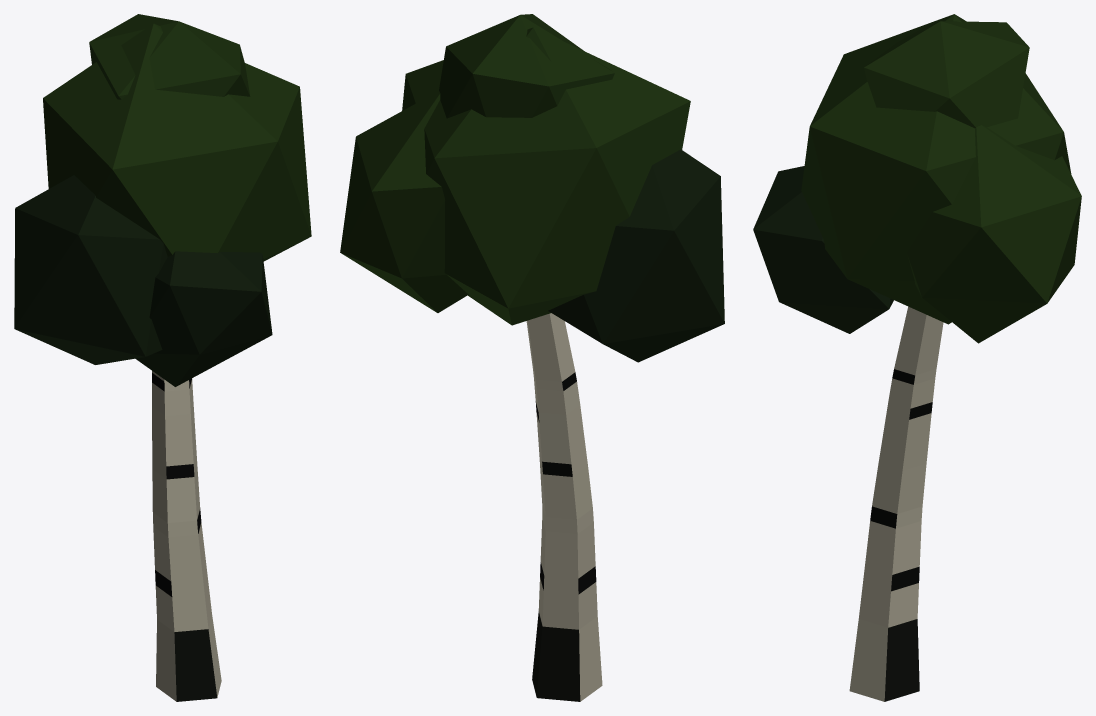
File: SM_Tree_Birch_01.fbx
3 renders of one model, left to right at view 1: azimuth 30°, elevation 25°; view 2: azimuth 150°, elevation 25°; view 3: azimuth 270°, elevation 25°, orthographic. The views are drawn at different scales.
Parts seen in each view (by area): view 1: SM_Tree_Birch_01; view 2: SM_Tree_Birch_01; view 3: SM_Tree_Birch_01.
Part boxes in pixels (bbox=[...]): SM_Tree_Birch_01: bbox=[14, 14, 311, 701]; SM_Tree_Birch_01: bbox=[340, 14, 724, 701]; SM_Tree_Birch_01: bbox=[753, 14, 1081, 701].
Size of what is drawn, in the model's own units: 107 by 211 by 93.51.
